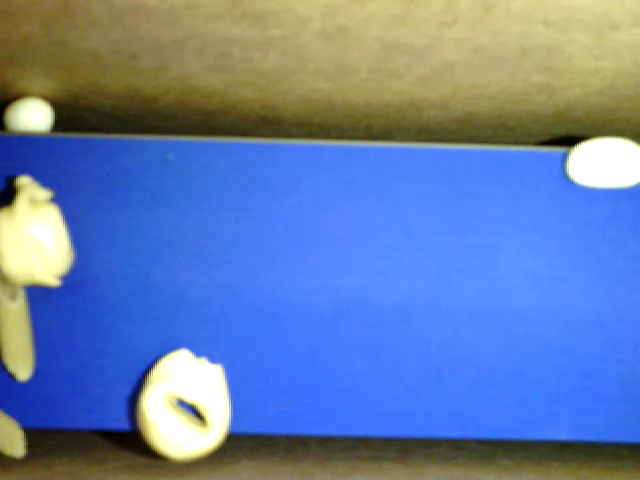penne: (1, 270, 37, 383)
tortellini: (135, 348, 232, 462), (1, 176, 74, 287)
